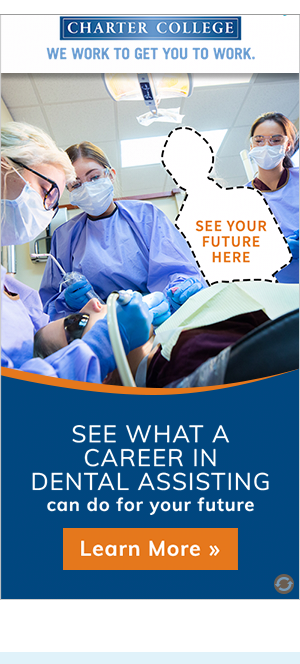fake_button: (50, 521, 256, 576)
